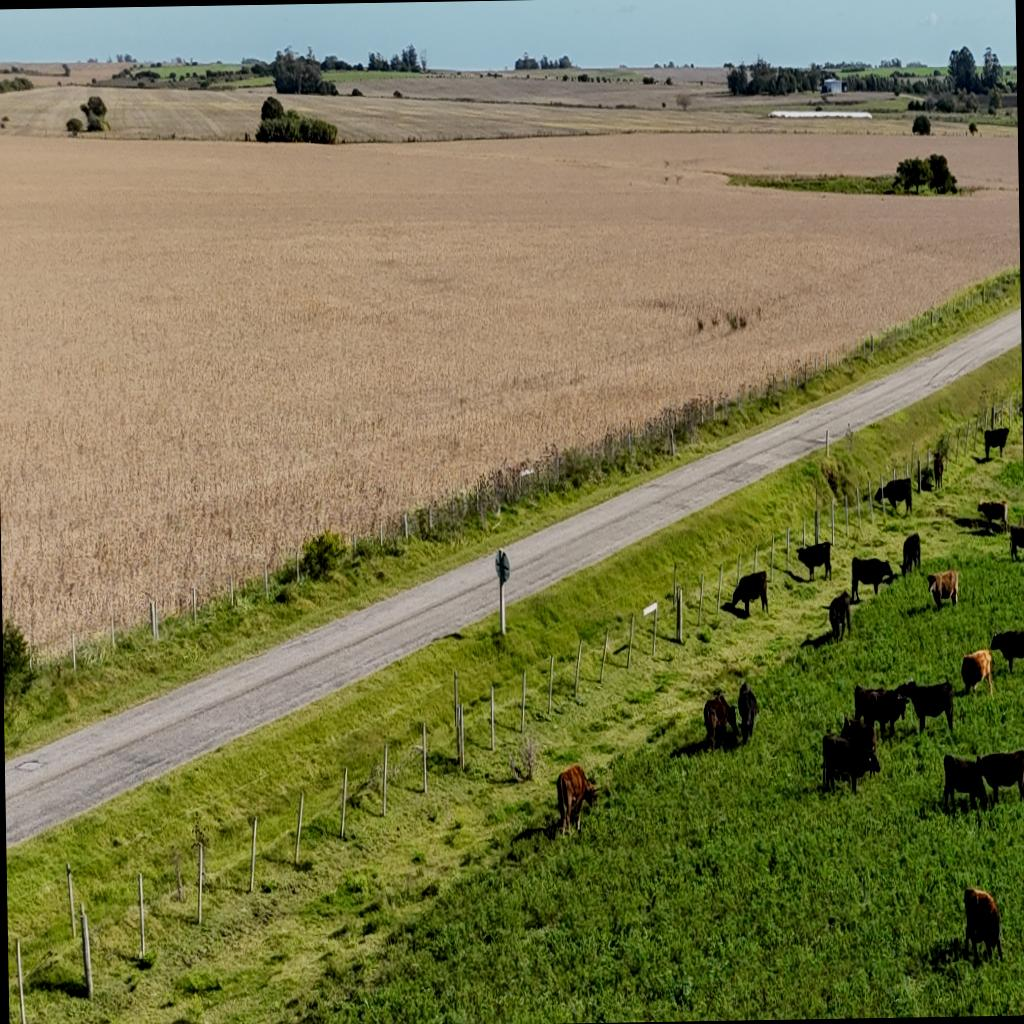cow: (803, 723, 883, 799), (536, 759, 602, 846), (952, 886, 1004, 973), (688, 674, 738, 762), (900, 677, 956, 737), (941, 750, 991, 816), (852, 684, 908, 740), (976, 747, 1024, 807), (921, 556, 969, 612), (725, 673, 759, 748), (850, 556, 896, 598), (730, 570, 770, 618), (990, 628, 1024, 677), (960, 648, 994, 696), (796, 540, 832, 582), (875, 477, 913, 515), (828, 591, 853, 642), (978, 498, 1010, 534), (900, 532, 922, 576), (982, 427, 1010, 460), (1008, 524, 1024, 562), (932, 452, 944, 490), (880, 562, 896, 587)
